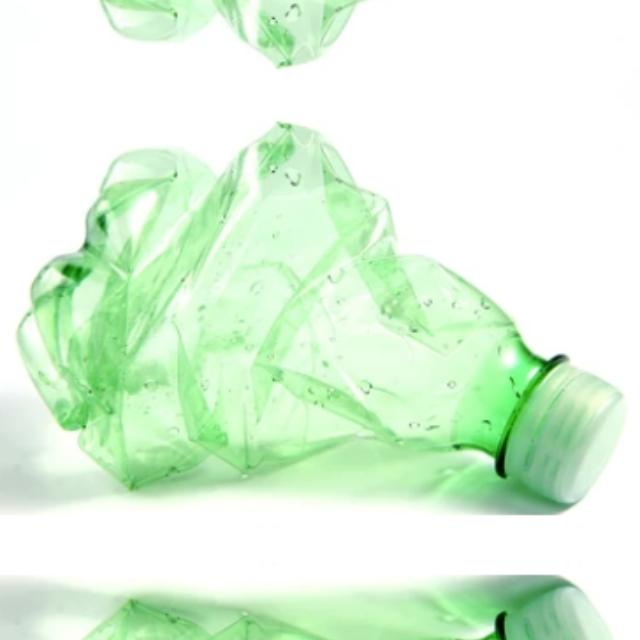Plastic: (7, 113, 630, 504), (6, 0, 629, 74), (6, 583, 629, 640)
